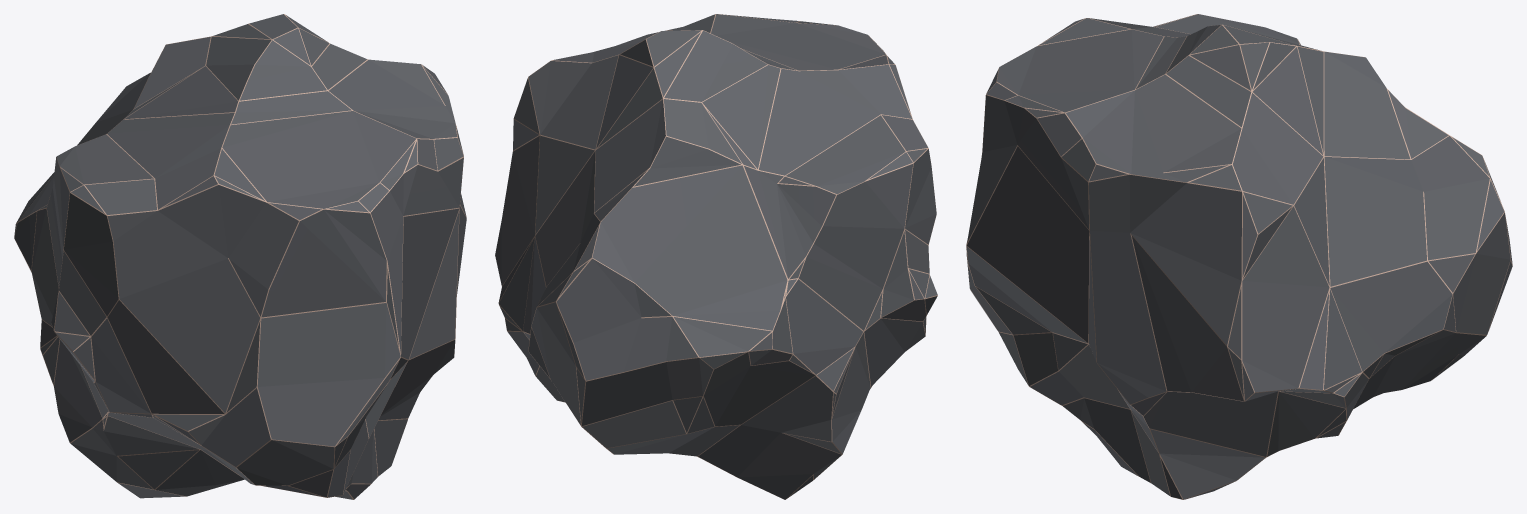
The model's file is batukecil4.fbx.
3 renders of one model, left to right at view 1: azimuth 30°, elevation 25°; view 2: azimuth 150°, elevation 25°; view 3: azimuth 270°, elevation 25°, orthographic. The views are drawn at different scales.
Parts seen in each view (by area): view 1: Cube.057; view 2: Cube.057; view 3: Cube.057.
Boxes of the visible parts, x1=… form: Cube.057: x1=14, y1=14, x2=466, y2=499; Cube.057: x1=495, y1=14, x2=937, y2=499; Cube.057: x1=966, y1=14, x2=1512, y2=499.
Bounding box in the file's own units: 191 × 192 × 213.
